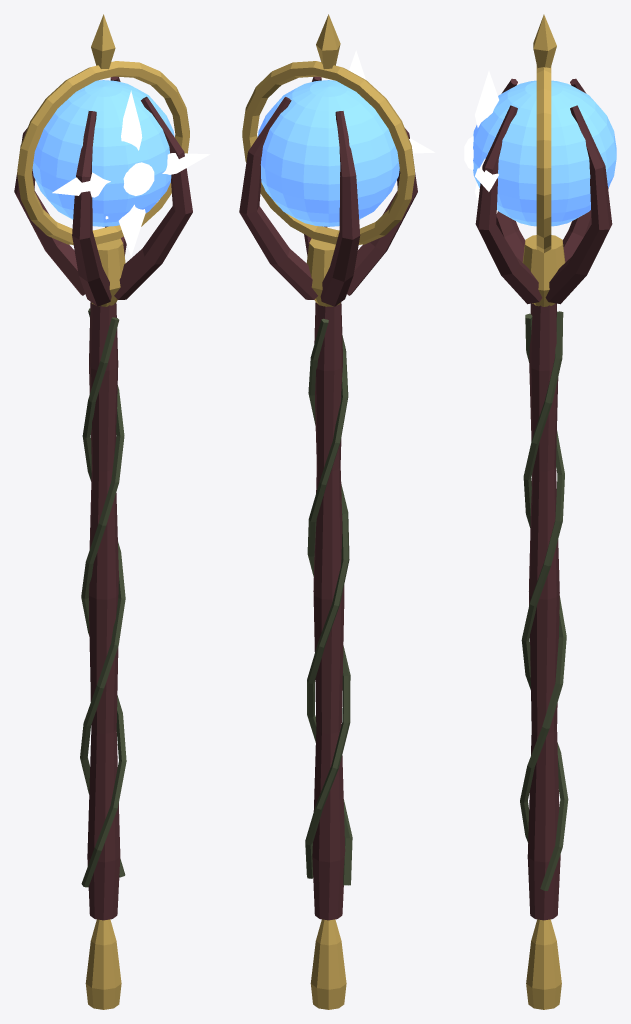
Rendered from staff_starorb.glb.
3 views of the same model, side by side, from view 1: azimuth 30°, elevation 25°; view 2: azimuth 150°, elevation 25°; view 3: azimuth 270°, elevation 25° (orthographic).
Parts seen in each view (by area): view 1: So_Shaft, So_Orb, So_Hoop, So_Claw3, So_Claw2, So_Vine1, So_Vine0, So_Ferrule, So_Claw1, So_Neck, So_Top, So_StarCore (+4 smaller); view 2: So_Shaft, So_Orb, So_Hoop, So_Claw0, So_Claw1, So_Vine0, So_Vine1, So_Ferrule, So_Claw2, So_Neck, So_Top; view 3: So_Shaft, So_Orb, So_Claw0, So_Claw3, So_Vine1, So_Vine0, So_Hoop, So_Ferrule, So_Neck, So_Claw1, So_Claw2, So_Top (+1 smaller).
Part boxes in pixels (box(x1,y1,x2,y2)): So_Shaft: box(87, 302, 120, 920); So_Orb: box(32, 80, 174, 226); So_Hoop: box(17, 61, 189, 244); So_Claw3: box(114, 96, 192, 299); So_Claw2: box(72, 111, 111, 306); So_Vine1: box(81, 308, 126, 887); So_Vine0: box(80, 317, 125, 877); So_Ferrule: box(85, 919, 121, 1009); So_Claw1: box(14, 128, 85, 295); So_Neck: box(91, 238, 125, 306); So_Top: box(91, 14, 115, 69); So_StarCore: box(123, 162, 154, 195); So_Shaft: box(312, 302, 345, 920); So_Orb: box(257, 80, 399, 226); So_Hoop: box(242, 61, 414, 244); So_Claw0: box(239, 97, 317, 299); So_Claw1: box(320, 111, 360, 306); So_Vine0: box(305, 335, 350, 878); So_Vine1: box(307, 318, 352, 885); So_Ferrule: box(310, 919, 346, 1009); So_Claw2: box(347, 128, 417, 295); So_Neck: box(306, 238, 340, 306); So_Top: box(316, 14, 340, 69); So_Shaft: box(527, 303, 560, 920); So_Orb: box(473, 80, 616, 226); So_Claw0: box(545, 105, 612, 304); So_Claw3: box(475, 105, 542, 304); So_Vine1: box(520, 311, 566, 842); So_Vine0: box(521, 313, 568, 890); So_Hoop: box(536, 65, 551, 252); So_Ferrule: box(526, 919, 561, 1009); So_Neck: box(522, 235, 565, 306); So_Claw1: box(562, 78, 608, 262); So_Claw2: box(496, 78, 525, 262); So_Top: box(533, 14, 556, 68).
Bounding box in the file's own units: 0.428 × 2.34 × 0.3263.
